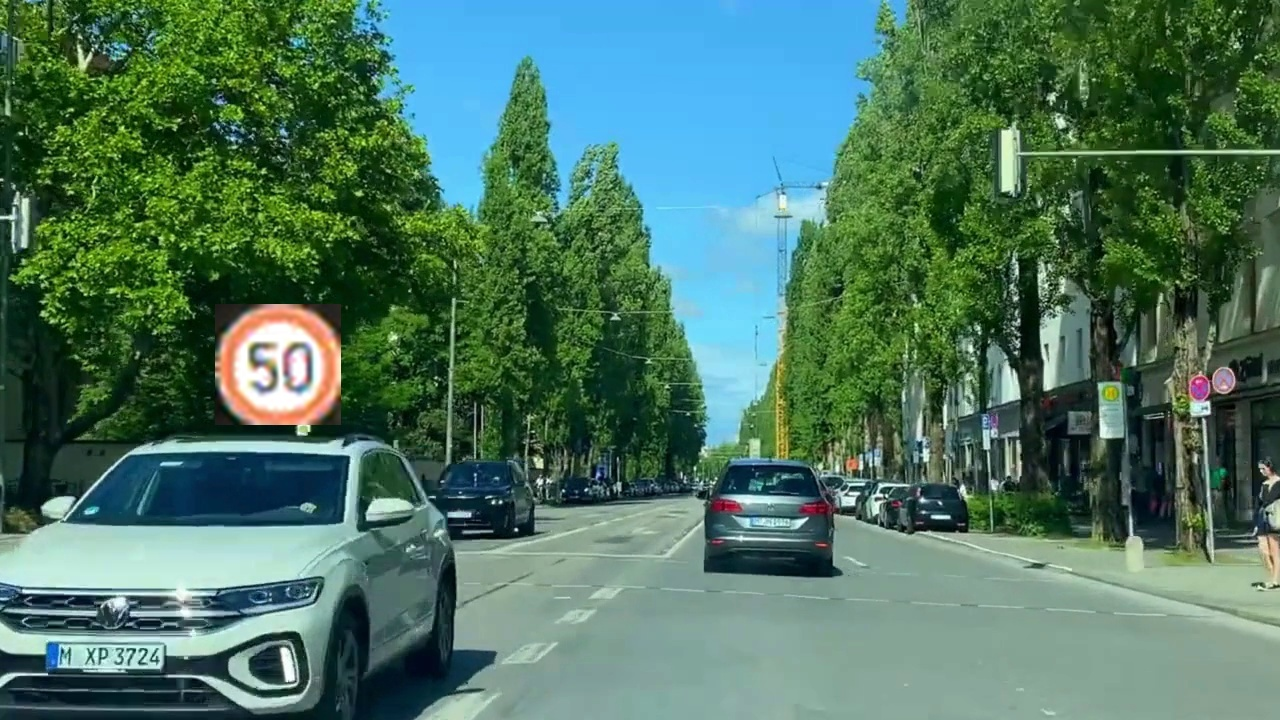Speed 50: (215, 304, 341, 425)
